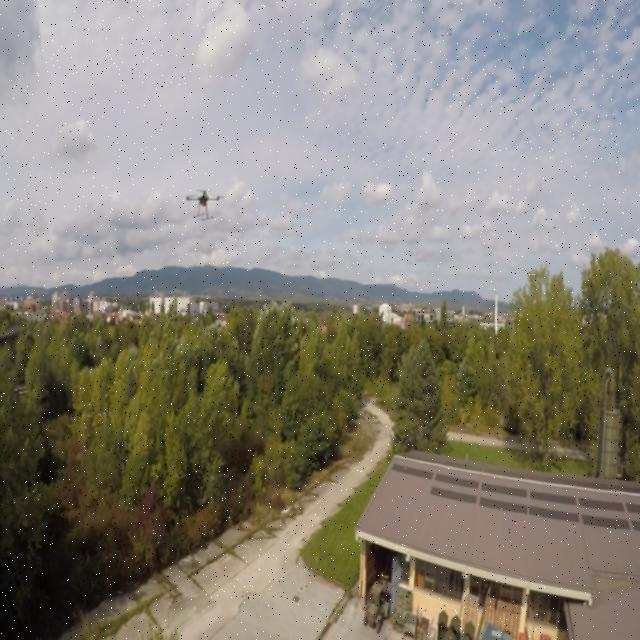UAV: (180, 183, 228, 226)
